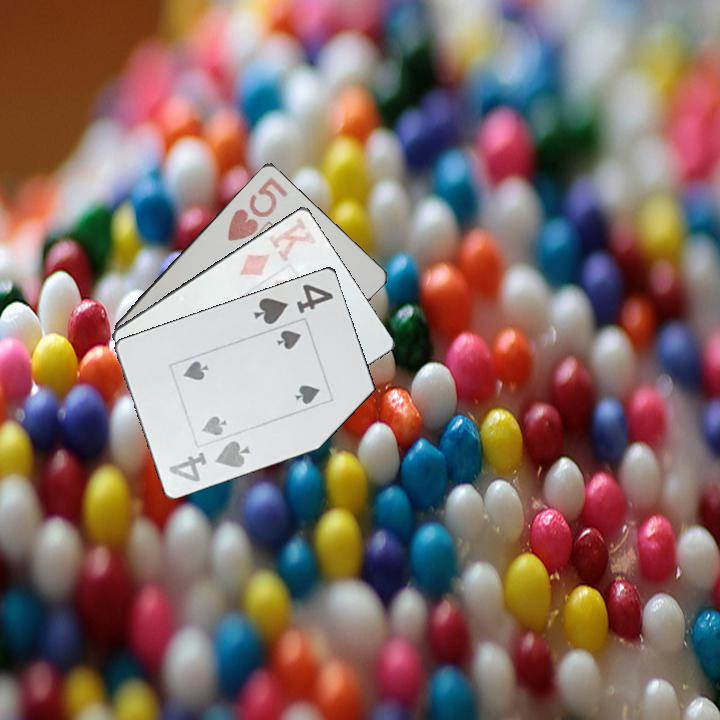4s: (165, 437, 252, 485), (248, 280, 336, 327)
5h: (224, 173, 291, 243)
Kd: (236, 214, 319, 280)
